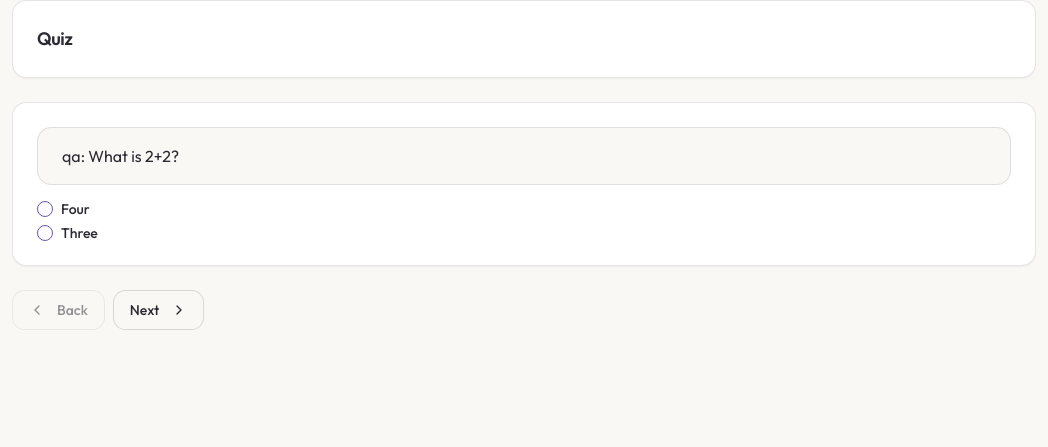
Test: InlineQuizPlayer lifecycle › limit 1: one RPC-created attempt stays usable after the first answer, and progression waits for the finalized row
Click the radio button named "Four" next to "Four".
click(45, 209)  # box [37,201,53,217]
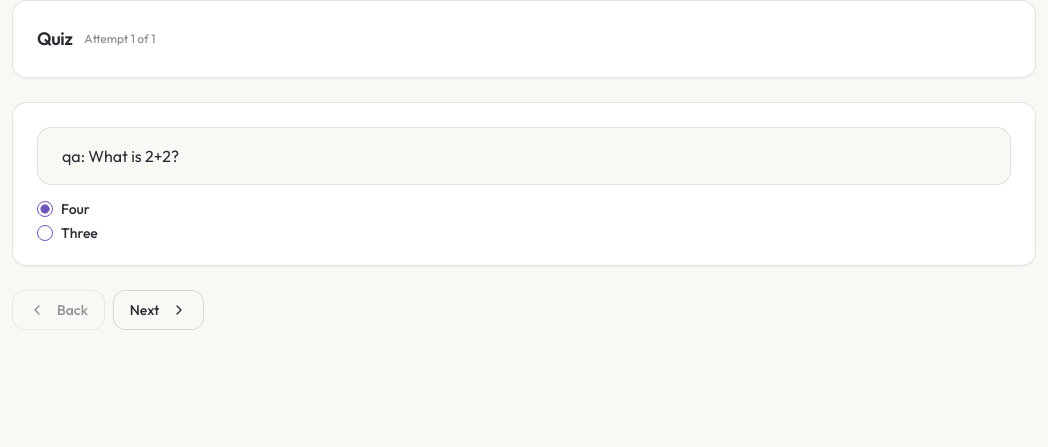
Click the button "Next".
click(159, 310)  # box [113,290,204,330]
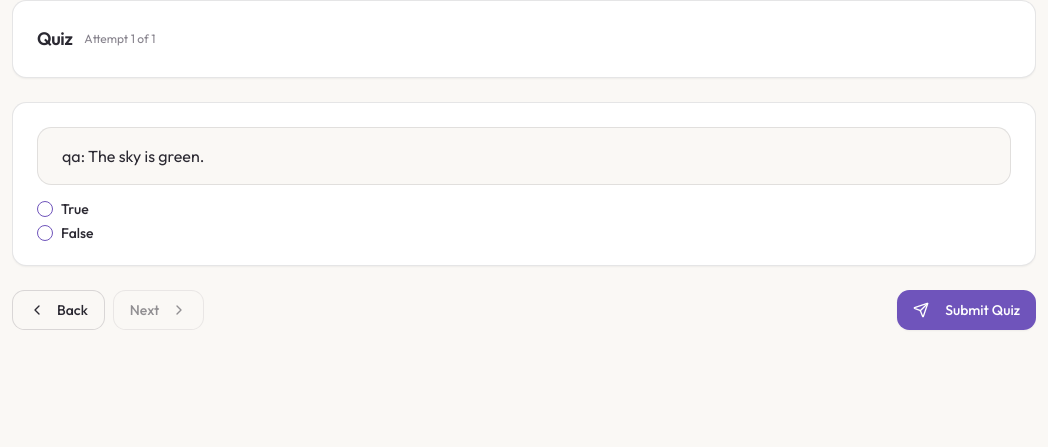
Click the radio button named "False" next to "False".
click(45, 233)  # box [37,225,53,241]
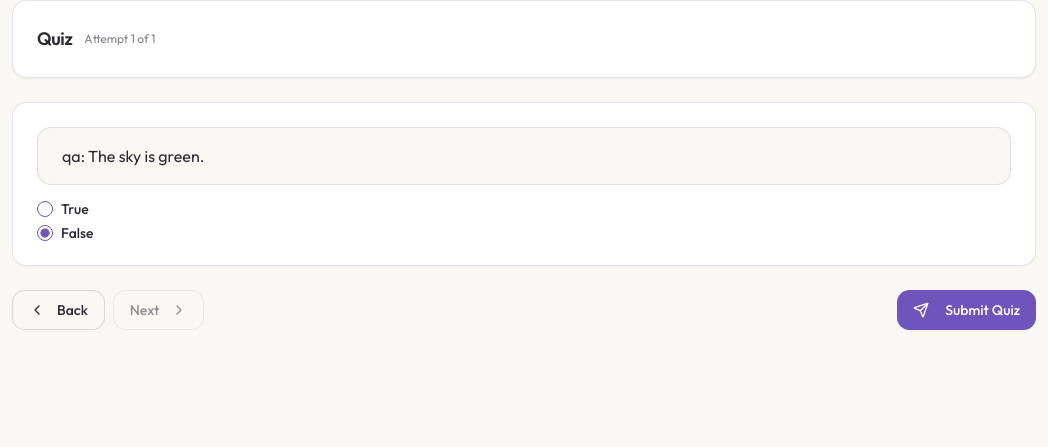
Click the button "Submit Quiz".
click(967, 310)  # box [897,290,1036,330]
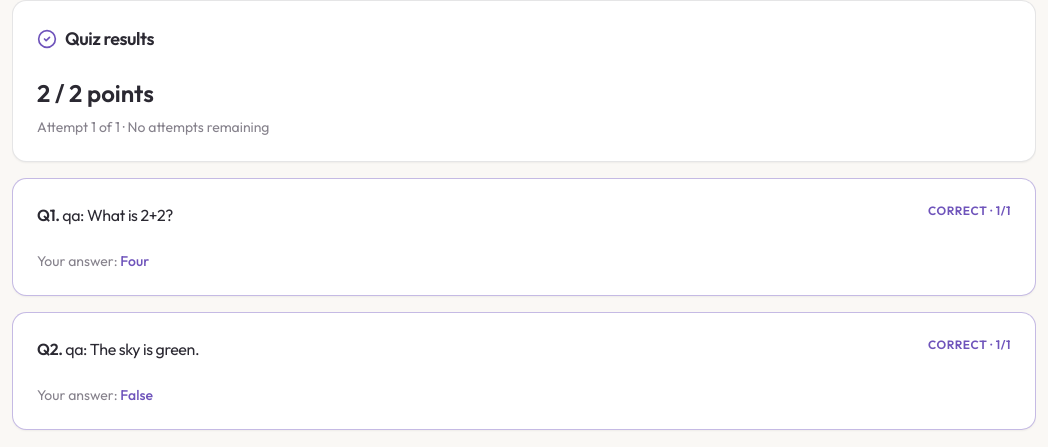
Expected: the element with test id "quiz-player-review" is shown
Expected: the text "2 / 2 points" is shown, [37,78,154,108]
Expected: the text "Attempt 1 of 1 · No attempts remaining" is shown, [37,118,270,136]
